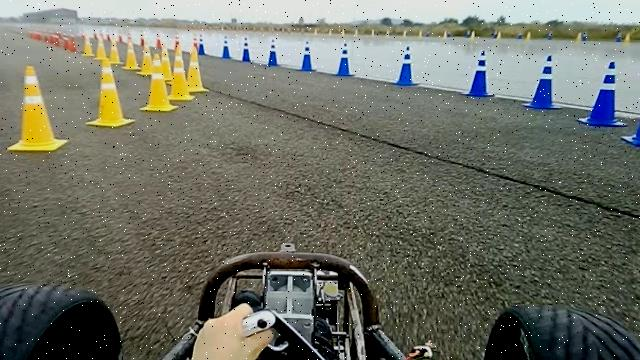blue cone: (577, 60, 628, 127), (522, 54, 564, 109), (462, 49, 496, 97), (392, 45, 421, 85), (333, 42, 356, 76), (296, 40, 317, 71), (266, 38, 283, 66), (240, 36, 252, 62), (221, 35, 232, 58)
yellow cone: (6, 64, 68, 152), (86, 57, 136, 127), (139, 55, 179, 112), (163, 44, 196, 102), (186, 46, 210, 93)
